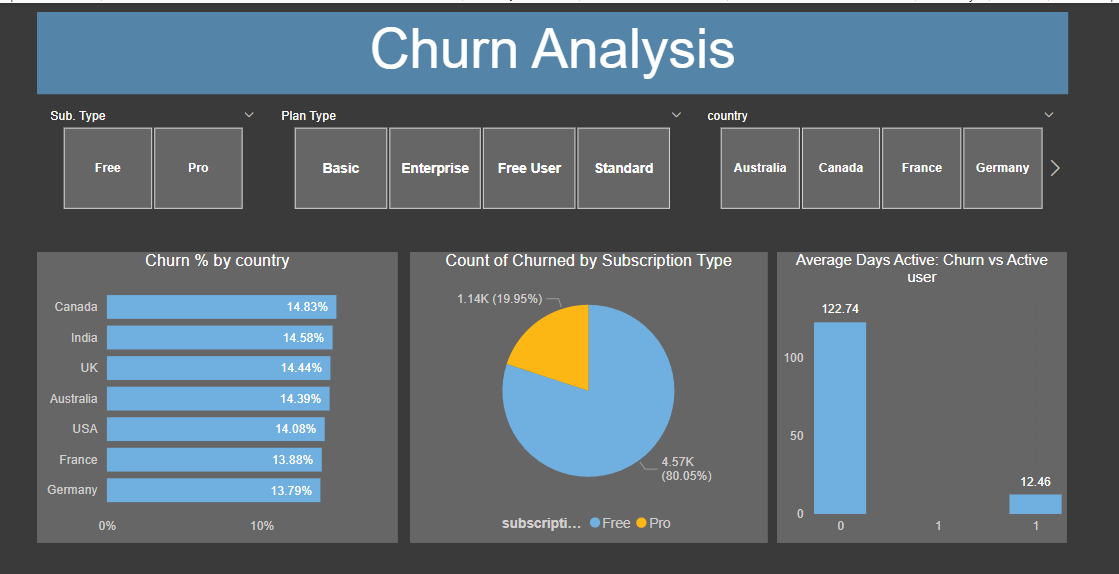

The dashboard page shown, as its layout file describes it:
{"tool":"powerbi","page":{"name":"Churn","canvas":[1280,720],"ordinal":2},"visuals":[{"type":"clusteredColumnChart","title":"Average Days Active: Churn vs Active user","fields":{"Category":["wppool_growth_data_sample_20k.churned"],"Y":["Avg(wppool_growth_data_sample_20k.days_active)"]},"box":[773.4,241.8,281.8,282.8],"z":0},{"type":"pieChart","title":"Count of Churned by Subscription Type","fields":{"Category":["wppool_growth_data_sample_20k.subscription_type"],"Y":["CountNonNull(wppool_growth_data_sample_20k.churned)"]},"box":[416.7,241.8,347.7,282.8],"z":1000},{"type":"barChart","fields":{"Category":["wppool_growth_data_sample_20k.country"],"Y":["Sum(wppool_growth_data_sample_20k.churned)"]},"box":[54,241.8,350.7,282.8],"z":2000},{"type":"textbox","box":[54,9,1003.2,79.9],"z":3000},{"type":"slicer","fields":{"Values":["wppool_growth_data_sample_20k.plan_type"]},"box":[277.8,97.9,414.7,108.9],"z":4000},{"type":"slicer","fields":{"Values":["wppool_growth_data_sample_20k.subscription_type"]},"box":[54,97.9,223.8,108.9],"z":5000},{"type":"slicer","fields":{"Values":["wppool_growth_data_sample_20k.country"]},"box":[692.5,97.9,362.7,108.9],"z":6000}]}

Visuals, with their boxes on the page's 1280x720 design canvas (x1, y1, x2, y2). These are canvas units, not pixel positions in the 1119x574 screenshot, which may show the page scaled, cropped or inside an application window:
"Average Days Active: Churn vs Active user" clusteredColumnChart: {"left": 773, "top": 242, "right": 1055, "bottom": 525}
"Count of Churned by Subscription Type" pieChart: {"left": 417, "top": 242, "right": 764, "bottom": 525}
barChart - wppool_growth_data_sample_20k.country x Sum(wppool_growth_data_sample_20k.churned): {"left": 54, "top": 242, "right": 405, "bottom": 525}
textbox: {"left": 54, "top": 9, "right": 1057, "bottom": 89}
slicer - wppool_growth_data_sample_20k.plan_type: {"left": 278, "top": 98, "right": 692, "bottom": 207}
slicer - wppool_growth_data_sample_20k.subscription_type: {"left": 54, "top": 98, "right": 278, "bottom": 207}
slicer - wppool_growth_data_sample_20k.country: {"left": 692, "top": 98, "right": 1055, "bottom": 207}
